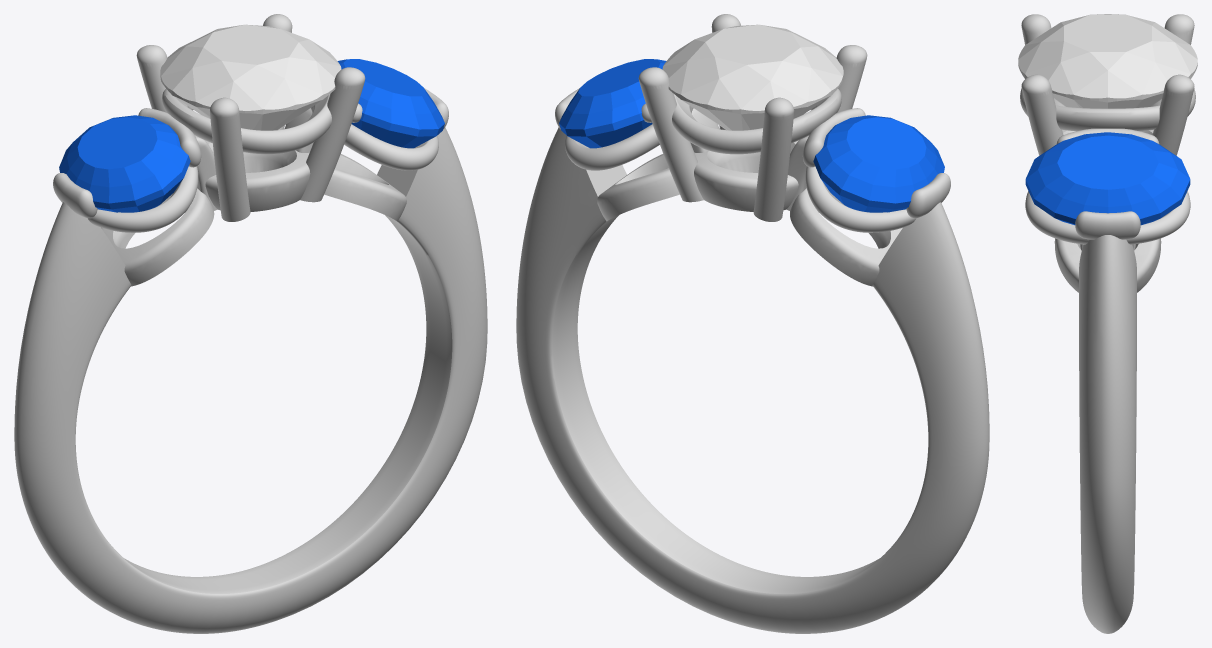
File: RussellFullband.glb
3 views of the same model, side by side, from view 1: azimuth 30°, elevation 25°; view 2: azimuth 150°, elevation 25°; view 3: azimuth 270°, elevation 25° (orthographic).
Parts seen in each view (by area): view 1: Russell PT full band for 3d model, Russell dia for 3d model, Russell sapph for 3d model.001, Russell sapph for 3d model; view 2: Russell PT full band for 3d model, Russell dia for 3d model, Russell sapph for 3d model.001, Russell sapph for 3d model; view 3: Russell PT full band for 3d model, Russell dia for 3d model, Russell sapph for 3d model.
Part boxes in pixels (bbox=[...]): Russell PT full band for 3d model: bbox=[14, 14, 487, 633]; Russell dia for 3d model: bbox=[160, 24, 341, 130]; Russell sapph for 3d model.001: bbox=[59, 115, 190, 212]; Russell sapph for 3d model: bbox=[337, 59, 444, 148]; Russell PT full band for 3d model: bbox=[516, 14, 989, 633]; Russell dia for 3d model: bbox=[662, 24, 843, 130]; Russell sapph for 3d model.001: bbox=[813, 115, 944, 212]; Russell sapph for 3d model: bbox=[559, 59, 666, 148]; Russell PT full band for 3d model: bbox=[1020, 14, 1195, 633]; Russell dia for 3d model: bbox=[1018, 14, 1197, 108]; Russell sapph for 3d model: bbox=[1025, 132, 1190, 225].
Size of the model in its own units: 21.12 by 25.03 by 7.08.
